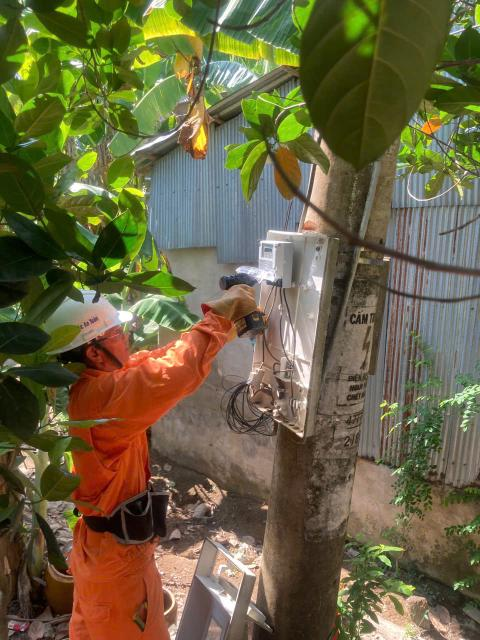gloves: (205, 271, 256, 359)
harness: (42, 481, 183, 546)
helmet: (19, 288, 139, 365)
